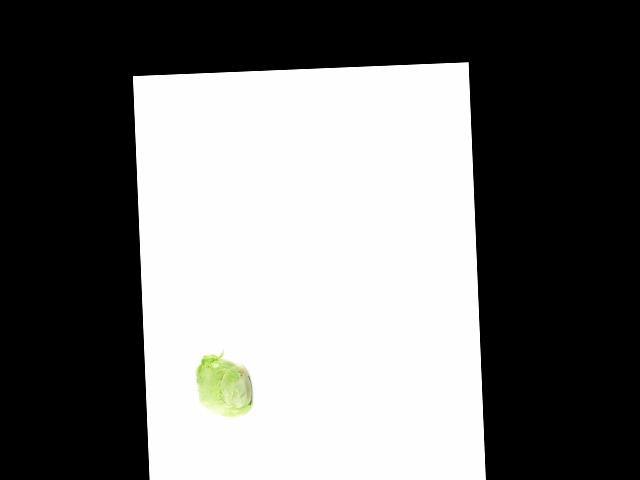lettuce: (192, 355, 255, 421)
